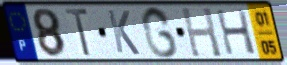8: (31, 6, 68, 59)
G: (139, 5, 180, 60)
H: (179, 5, 224, 59), (214, 8, 258, 56)
K: (105, 9, 142, 57)
T: (63, 7, 93, 59)
